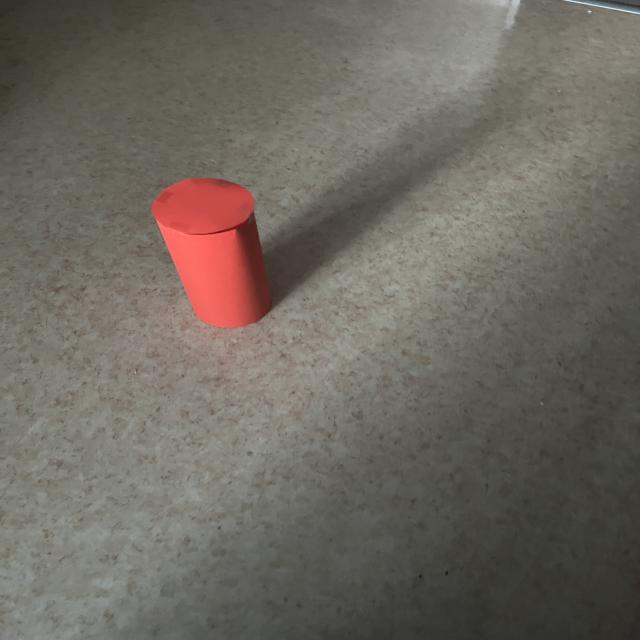przeszkoda: (152, 178, 272, 327)
